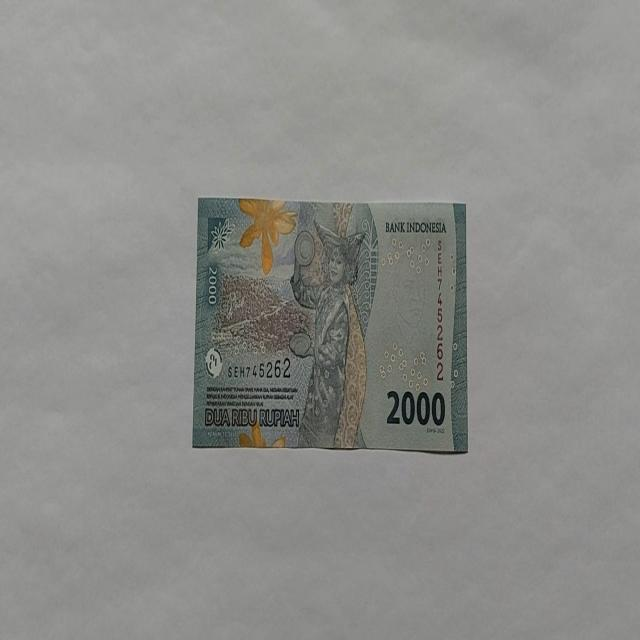dua ribu rupiah: (192, 196, 468, 454), (288, 218, 368, 448)
